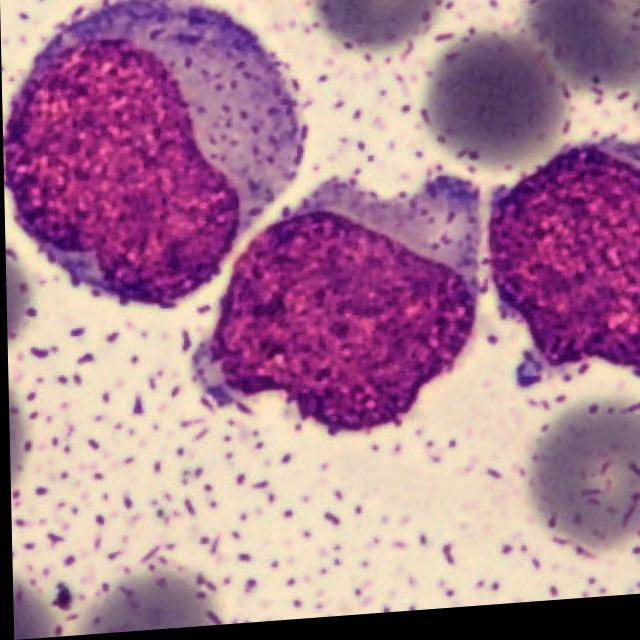Mieloblasto: (2, 0, 306, 311), (190, 181, 480, 440), (487, 147, 640, 390)
